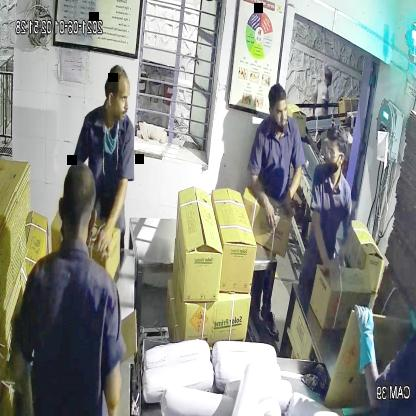goggles: (322, 144, 350, 165)
no_goggles: (106, 88, 131, 111)
